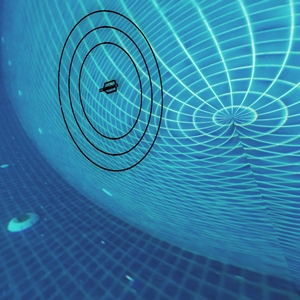circle: (55, 12, 173, 181)
submarine: (100, 81, 122, 95)
